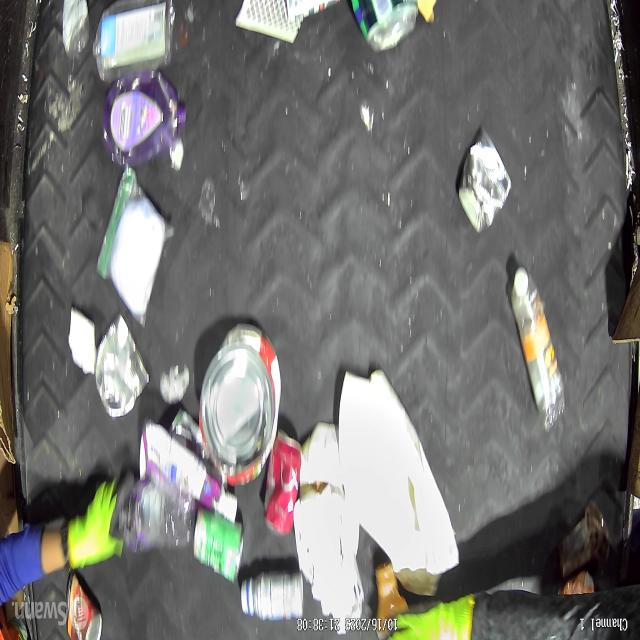can: (198, 327, 281, 487), (93, 312, 150, 421), (457, 126, 512, 234), (262, 426, 302, 538), (192, 506, 246, 586), (64, 568, 103, 640)
milk_jug: (337, 365, 460, 600)
plastic_bottle: (510, 266, 566, 432), (116, 473, 196, 558)
